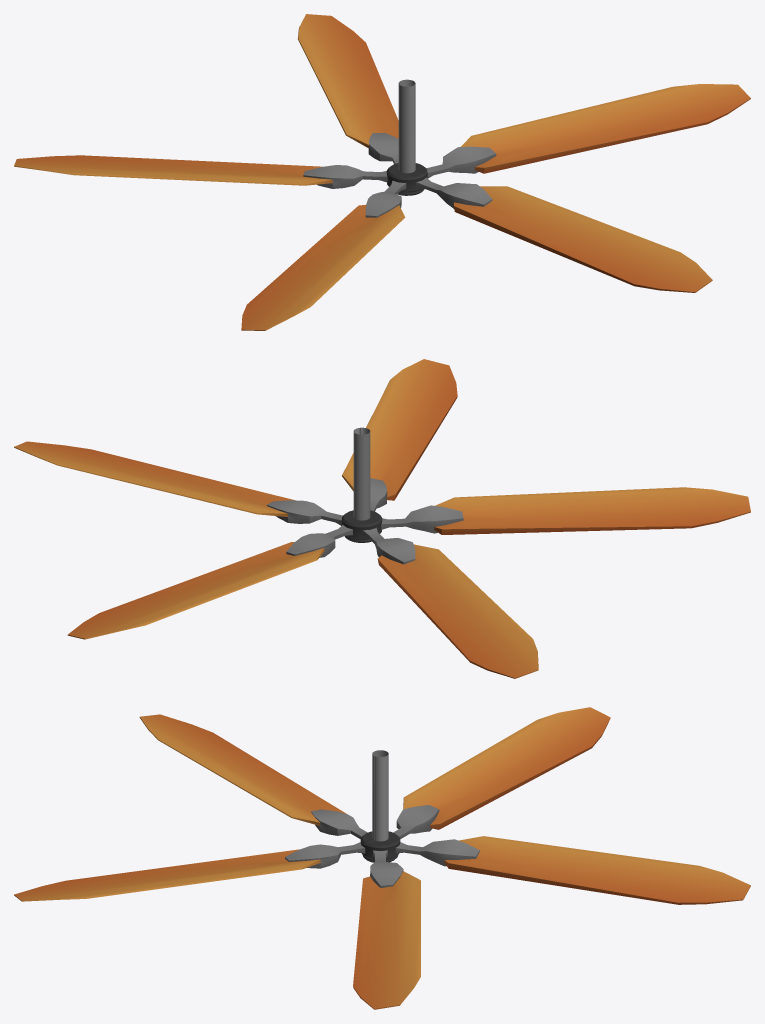
The model's file is SM_Helice.fbx.
3 renders of one model, top to bottom at view 1: azimuth 30°, elevation 25°; view 2: azimuth 150°, elevation 25°; view 3: azimuth 270°, elevation 25°, orthographic. The views are drawn at different scales.
Visible parts, largest first — view 1: Helice; view 2: Helice; view 3: Helice.
Part boxes in pixels (x1=…): Helice: x1=14, y1=14, x2=750, y2=330; Helice: x1=14, y1=359, x2=750, y2=678; Helice: x1=14, y1=707, x2=750, y2=1009.
Size of the model in its own units: 445 by 72.82 by 466.
